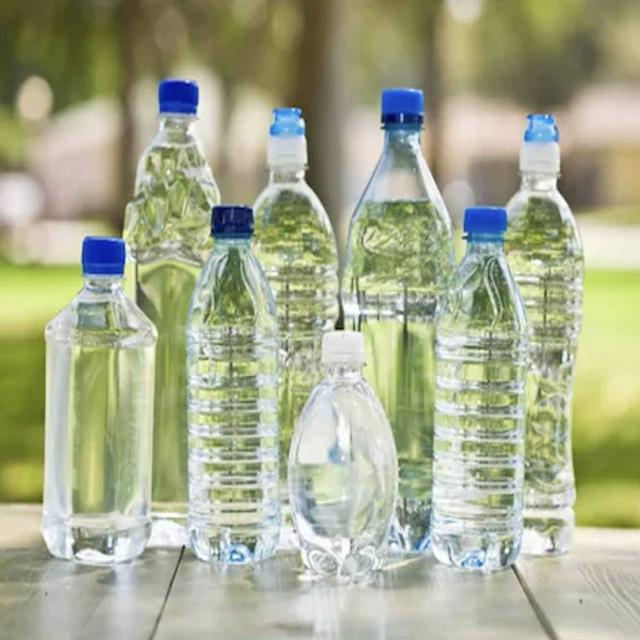recyclable: (326, 49, 464, 559), (21, 209, 176, 581), (171, 188, 293, 582), (427, 195, 543, 582), (275, 312, 403, 596)
